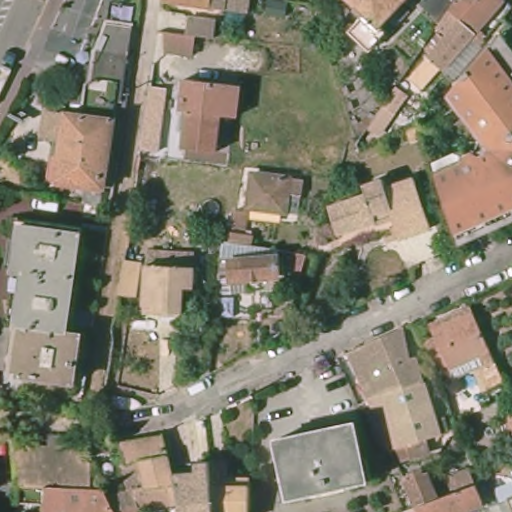pool: (455, 370, 480, 391)
